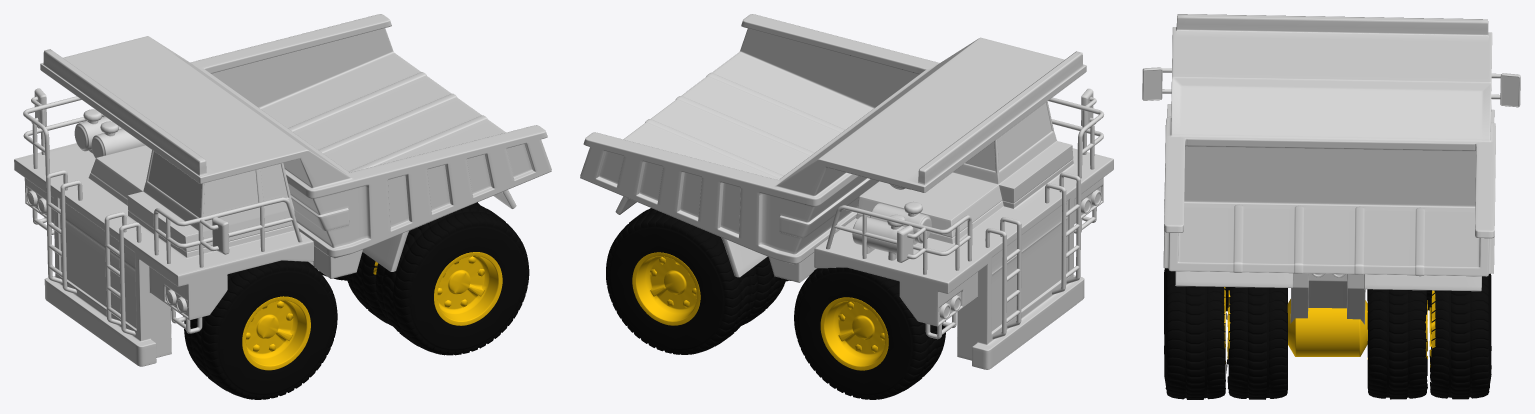
File: 3D_Truck.fbx
3 views of the same model, side by side, from view 1: azimuth 30°, elevation 25°; view 2: azimuth 150°, elevation 25°; view 3: azimuth 270°, elevation 25° (orthographic).
Visible parts, largest first — view 1: 3D_Truck, 3D_Truck_Back2, 3D_Truck_Front, 3D_Truck_Back1; view 2: 3D_Truck, 3D_Truck_Back2, 3D_Truck_Front, 3D_Truck_Back1; view 3: 3D_Truck, 3D_Truck_Back1, 3D_Truck_Back2.
Boxes of the visible parts, box(x1,y1,x2,y2) form: 3D_Truck: box(14, 14, 551, 366); 3D_Truck_Back2: box(375, 203, 529, 355); 3D_Truck_Front: box(184, 260, 337, 399); 3D_Truck_Back1: box(319, 202, 479, 325); 3D_Truck: box(580, 14, 1113, 369); 3D_Truck_Back2: box(606, 208, 757, 354); 3D_Truck_Front: box(794, 267, 945, 399); 3D_Truck_Back1: box(741, 256, 790, 325); 3D_Truck: box(1142, 14, 1520, 324); 3D_Truck_Back1: box(1227, 287, 1427, 399); 3D_Truck_Back2: box(1164, 268, 1491, 399).
Size of the model in its own units: 200 by 127 by 171.
